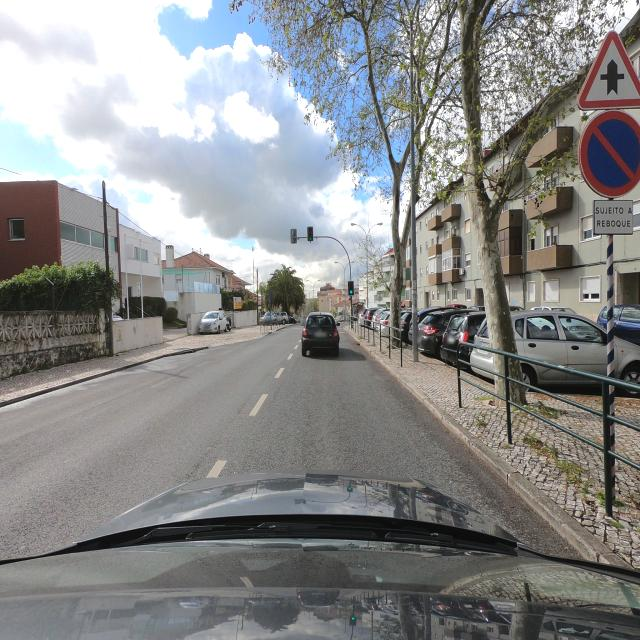car: (469, 303, 616, 394), (605, 303, 640, 397), (440, 308, 486, 369), (412, 307, 468, 356), (301, 312, 340, 357), (596, 302, 634, 336), (392, 310, 414, 344), (198, 310, 228, 334), (361, 307, 383, 328), (370, 310, 390, 332), (259, 311, 279, 325), (278, 311, 290, 323), (288, 312, 297, 324)
